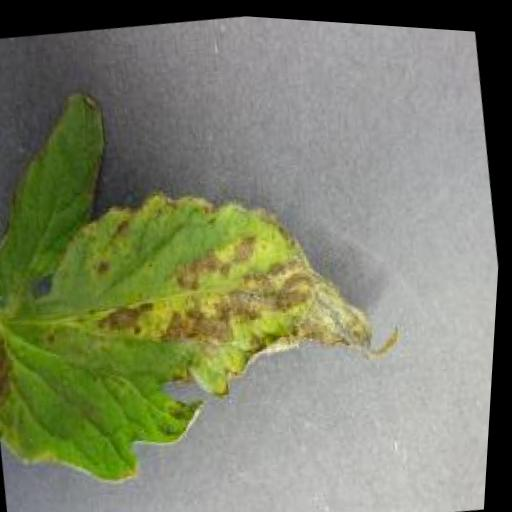Bacterial Spot: (0, 27, 440, 512)
